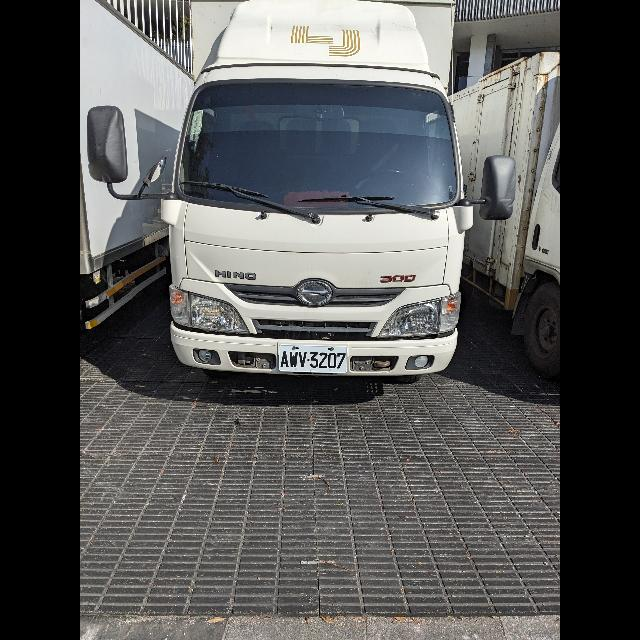plate: (279, 344, 348, 374)
